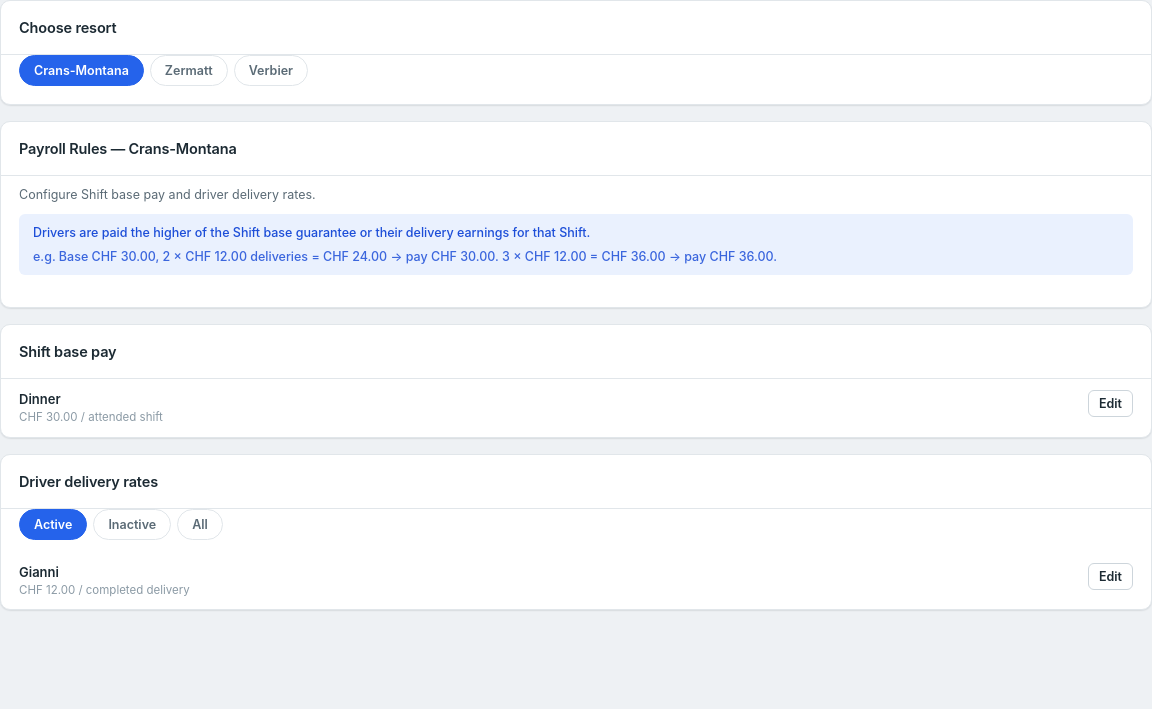
it: PayrollRulesPanel: page › 5. a missing rate shows "Not configured", never a fabricated CHF 0
The width and height of the screenshot is (1152, 709).
Expected: the text "Dinner" is shown, top-left (19, 391), bottom-right (60, 407)
Note: Switch to Verbier, which has zero Shifts/drivers/rates configured at all.
What coordinates should you click on to do the following:
click the tab "Verbier"
I would click on:
 (271, 70)
Its box is top-left (234, 55), bottom-right (308, 86).
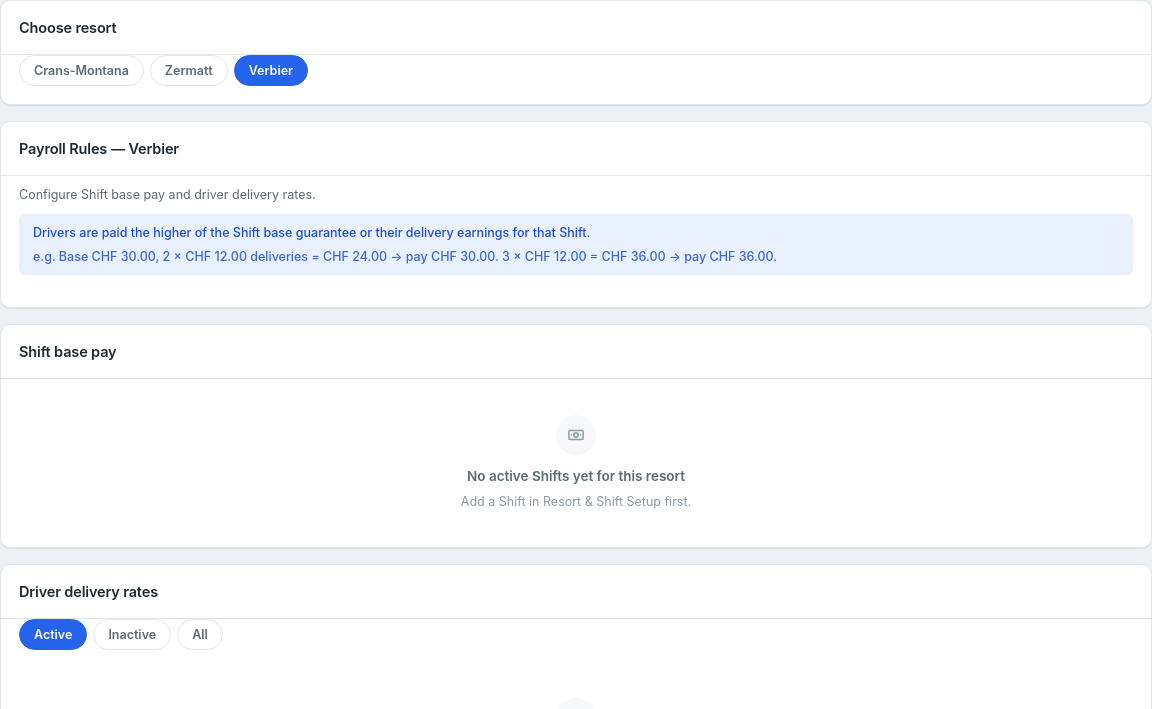
Expected: the text "No active Shifts yet for this resort" is shown, top-left (467, 467), bottom-right (685, 487)
